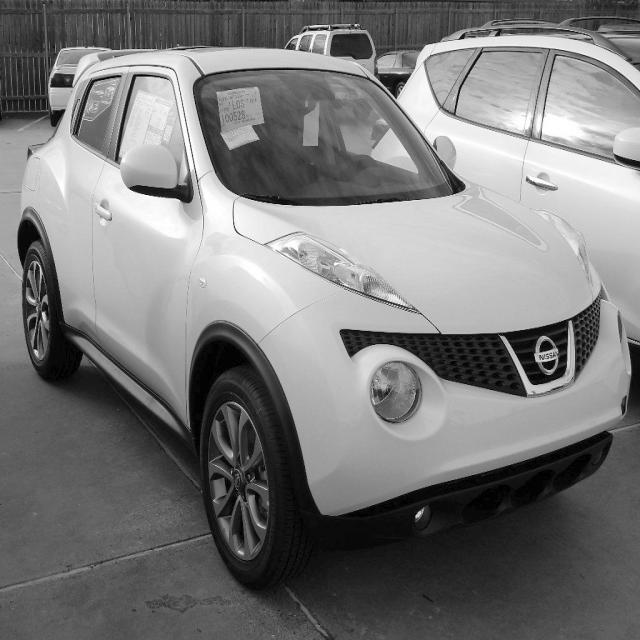car: (17, 43, 632, 591), (370, 22, 640, 348), (285, 22, 377, 79), (48, 46, 110, 126), (374, 50, 420, 99)
